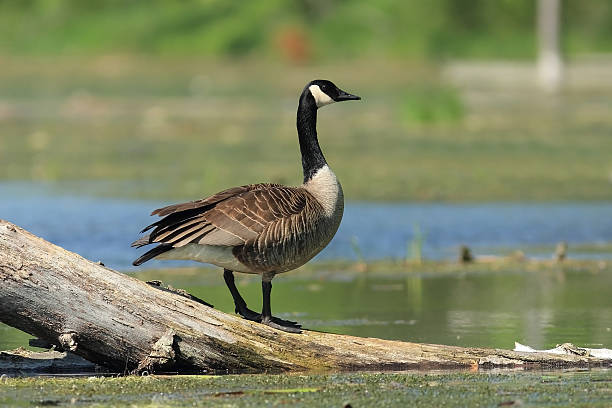goose: (125, 79, 363, 335)
